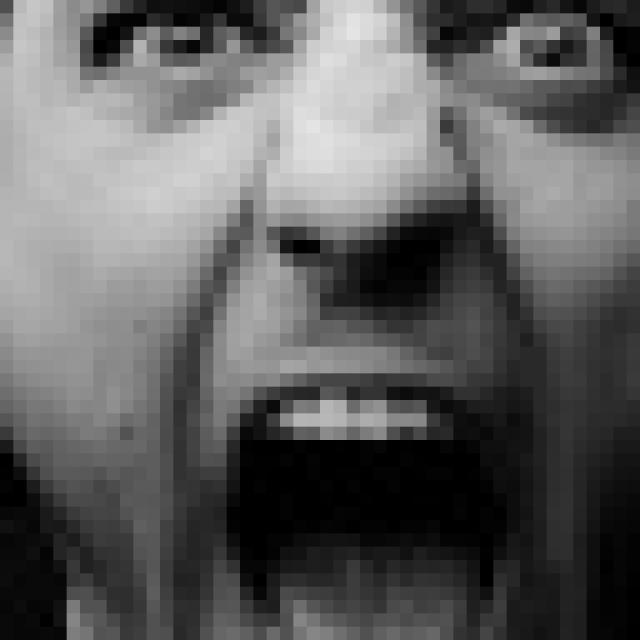angry: (88, 0, 640, 640)
